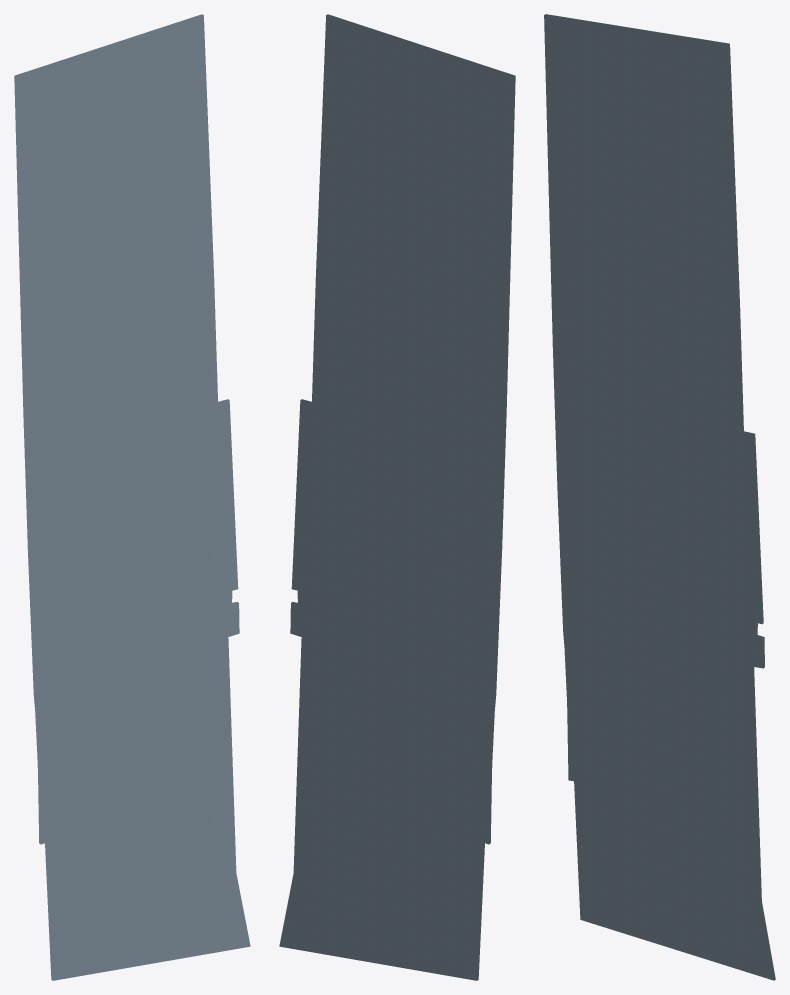
File: floor_8.obj
3 renders of one model, left to right at view 1: azimuth 30°, elevation 25°; view 2: azimuth 150°, elevation 25°; view 3: azimuth 330°, elevation 25°, orthographic.
Parts seen in each view (by area): view 1: floor_8; view 2: floor_8; view 3: floor_8.
Boxes of the visible parts, x1,y1,x2,y2 form: floor_8: (14,14,250,980); floor_8: (279,14,515,980); floor_8: (544,14,775,980).
Bounding box in the file's own units: 12.08 × 46.29 × 0.1.
Materials: 1 (1 with a texture image).
